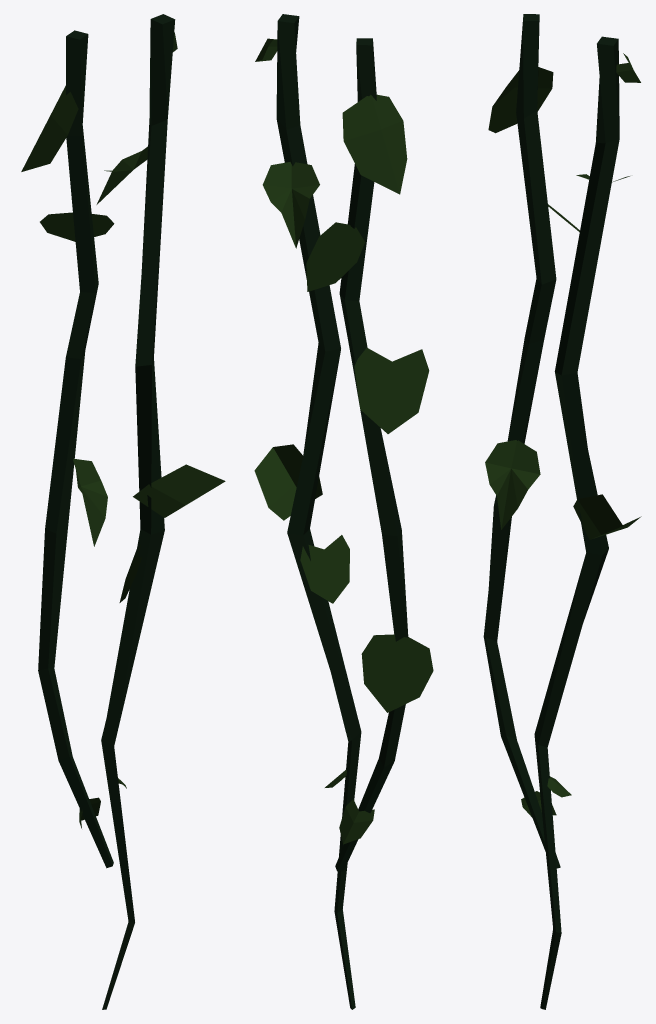
File: melon2.FBX
3 renders of one model, left to right at view 1: azimuth 30°, elevation 25°; view 2: azimuth 150°, elevation 25°; view 3: azimuth 330°, elevation 25°, orthographic.
Visible parts, largest first — view 1: melon2; view 2: melon2; view 3: melon2.
Part boxes in pixels (x1,y1,x2,y2): melon2: (21, 14, 225, 1009); melon2: (254, 14, 433, 1009); melon2: (483, 14, 641, 1009).
Bounding box in the file's own units: 51.65 × 27.89 × 259.
